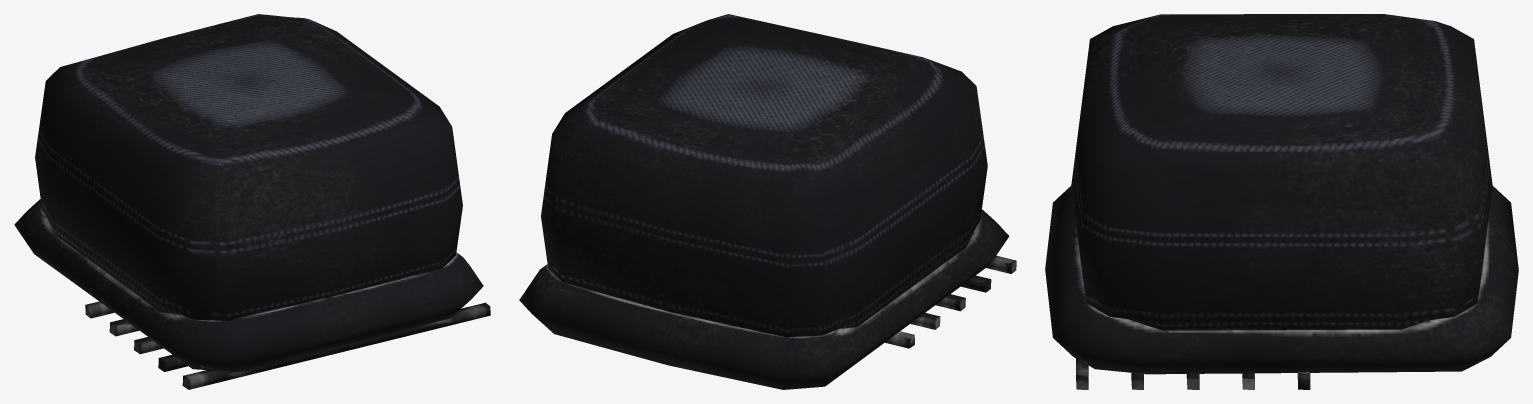
The model's file is Maton_BotaIzq.fbx.
3 renders of one model, left to right at view 1: azimuth 30°, elevation 25°; view 2: azimuth 150°, elevation 25°; view 3: azimuth 270°, elevation 25°, orthographic. The views are drawn at different scales.
Visible parts, largest first — view 1: Maton_BotaIzq; view 2: Maton_BotaIzq; view 3: Maton_BotaIzq.
Part boxes in pixels (x1=…): Maton_BotaIzq: x1=14, y1=14, x2=490, y2=389; Maton_BotaIzq: x1=519, y1=14, x2=1016, y2=389; Maton_BotaIzq: x1=1045, y1=14, x2=1518, y2=389.
Size of the model in its own units: 1.31 by 0.8325 by 1.53.
